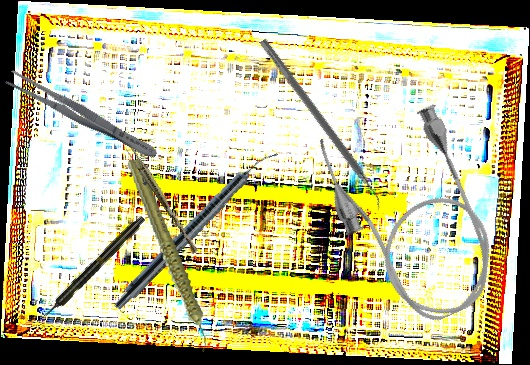Cannula: (306, 91, 517, 341)
Dressing Forceps: (3, 67, 162, 164)
Handpiece: (110, 141, 280, 317), (125, 152, 211, 360), (40, 213, 148, 321)
Spatula Surgical: (252, 38, 390, 213)
Tissue Forceps: (122, 144, 203, 255)
